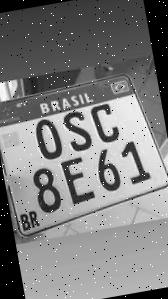placa_mercosul: (0, 71, 168, 236)
